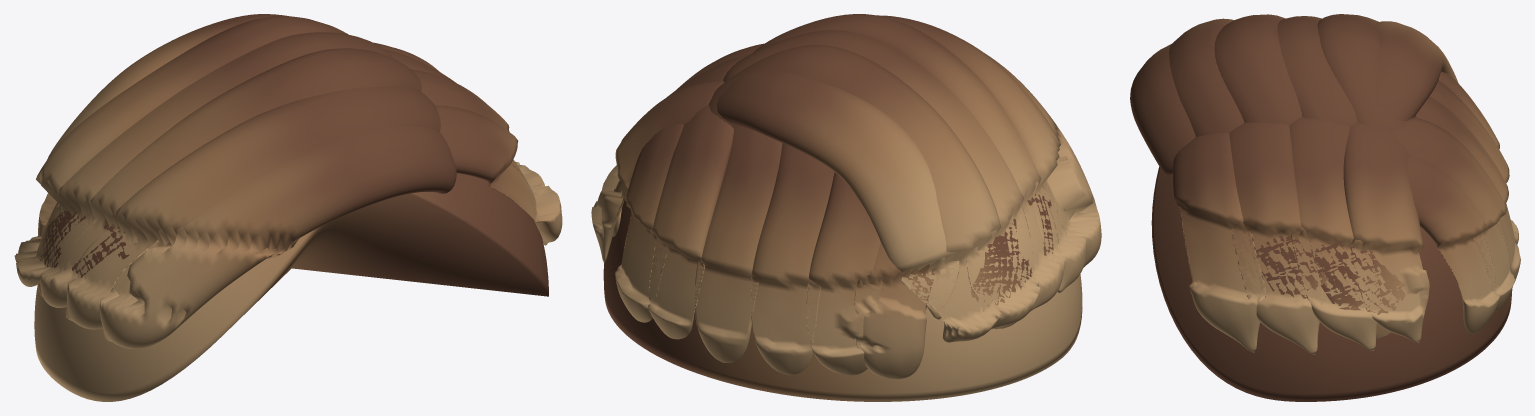
File: Ombre-86894598a4e2253-hair.glb
3 views of the same model, side by side, from view 1: azimuth 30°, elevation 25°; view 2: azimuth 150°, elevation 25°; view 3: azimuth 270°, elevation 25° (orthographic). The views are drawn at different scales.
Visible parts, largest first — view 1: 226 hair / Hair / sculpted 0.002, 226 hair / Hair / sculpted 1.003, 226 hair / Hair / sculpted 1, 226 hair / Hair / sculpted 2.002; view 2: 226 hair / Hair / sculpted 1.003, 226 hair / Hair / sculpted 0.002, 226 hair / Hair / sculpted 2.002, 226 hair / Hair / sculpted 1; view 3: 226 hair / Hair / sculpted 1.003, 226 hair / Hair / sculpted 0.002, 226 hair / Hair / sculpted 2.002, 226 hair / Hair / sculpted 1.
Boxes of the visible parts, x1,y1,x2,y2 form: 226 hair / Hair / sculpted 0.002: (16,32,562,348); 226 hair / Hair / sculpted 1.003: (14,14,544,329); 226 hair / Hair / sculpted 1: (34,173,548,401); 226 hair / Hair / sculpted 2.002: (40,48,519,307); 226 hair / Hair / sculpted 1.003: (612,15,1086,375); 226 hair / Hair / sculpted 0.002: (591,30,1101,379); 226 hair / Hair / sculpted 2.002: (602,14,1064,375); 226 hair / Hair / sculpted 1: (603,198,1082,401); 226 hair / Hair / sculpted 1.003: (1169,14,1515,354); 226 hair / Hair / sculpted 0.002: (1130,16,1520,352); 226 hair / Hair / sculpted 2.002: (1214,14,1518,350); 226 hair / Hair / sculpted 1: (1151,166,1512,401).
Size of the model in its own units: 0.9751 by 0.572 by 0.7583.
Materials: 4 (4 with a texture image).
